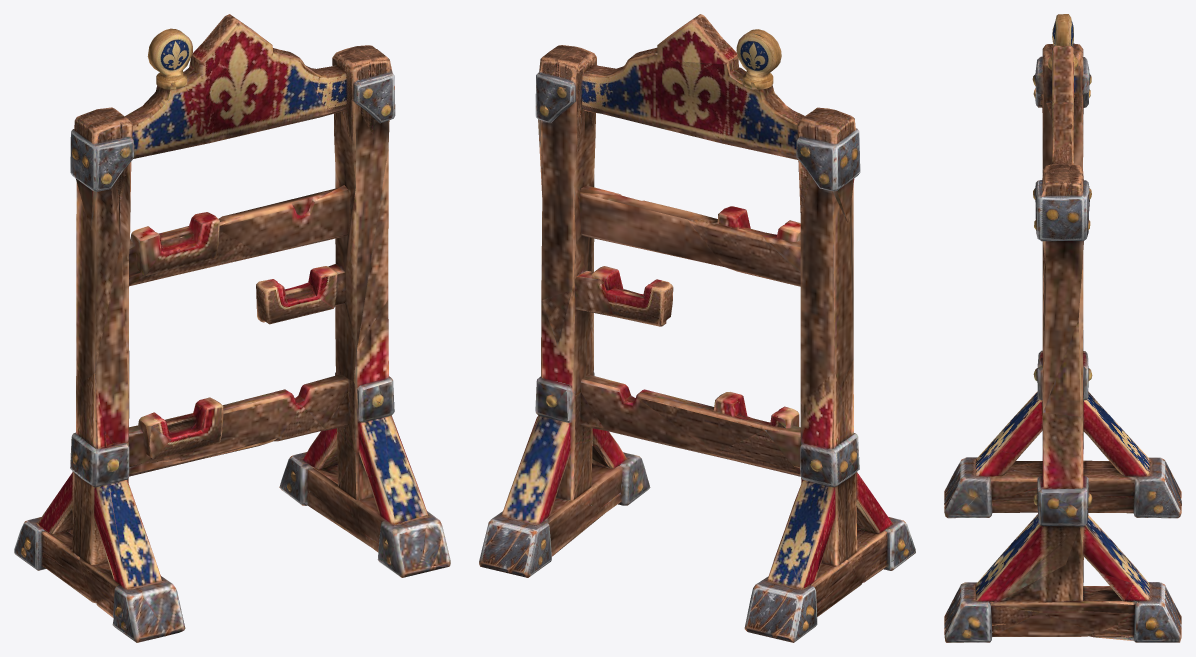
File: vertical_rack.glb
3 views of the same model, side by side, from view 1: azimuth 30°, elevation 25°; view 2: azimuth 150°, elevation 25°; view 3: azimuth 270°, elevation 25° (orthographic). The views are drawn at different scales.
Visible parts, largest first — view 1: mesh_0; view 2: mesh_0; view 3: mesh_0.
Boxes of the visible parts, x1,y1,x2,y2 form: mesh_0: [14, 14, 450, 642]; mesh_0: [479, 14, 915, 642]; mesh_0: [944, 14, 1181, 642].
Size of the model in its own units: 1.24 by 2 by 0.8221.
Materials: 1 (1 with a texture image).
